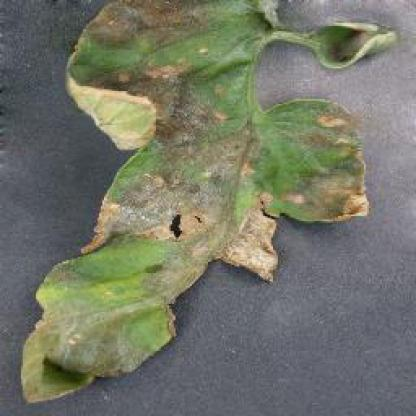bad leaf: (54, 16, 366, 191), (67, 168, 329, 367), (220, 0, 378, 288), (73, 0, 202, 278), (24, 171, 137, 415)
